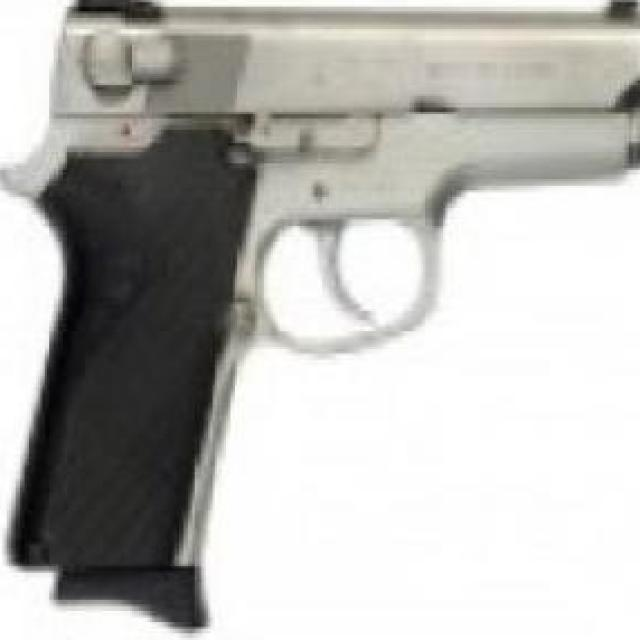pistol: (7, 2, 640, 617)
